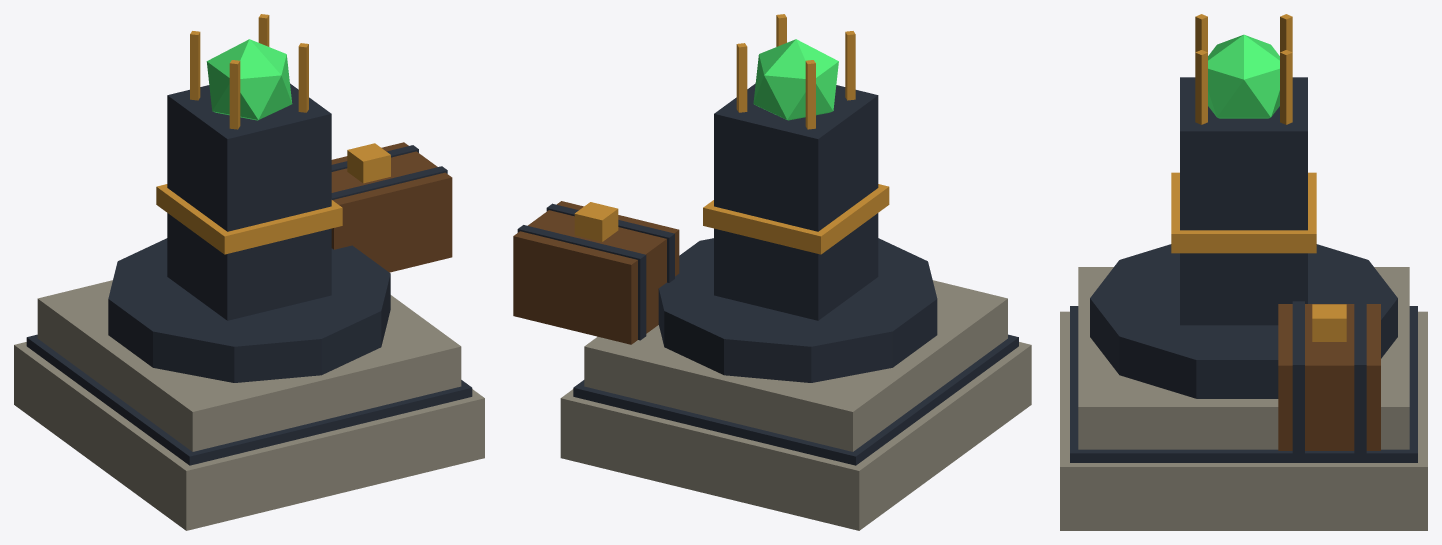
Rendered from MenderBody.obj.
3 views of the same model, side by side, from view 1: azimuth 30°, elevation 25°; view 2: azimuth 150°, elevation 25°; view 3: azimuth 270°, elevation 25° (orthographic). The views are drawn at different scales.
Visible parts, largest first — view 1: MenderBody; view 2: MenderBody; view 3: MenderBody.
Boxes of the visible parts, bbox=[...] form: MenderBody: bbox=[14, 14, 484, 530]; MenderBody: bbox=[513, 14, 1031, 530]; MenderBody: bbox=[1060, 14, 1427, 530].
Bounding box in the file's own units: 1.07 × 1.08 × 0.86.
